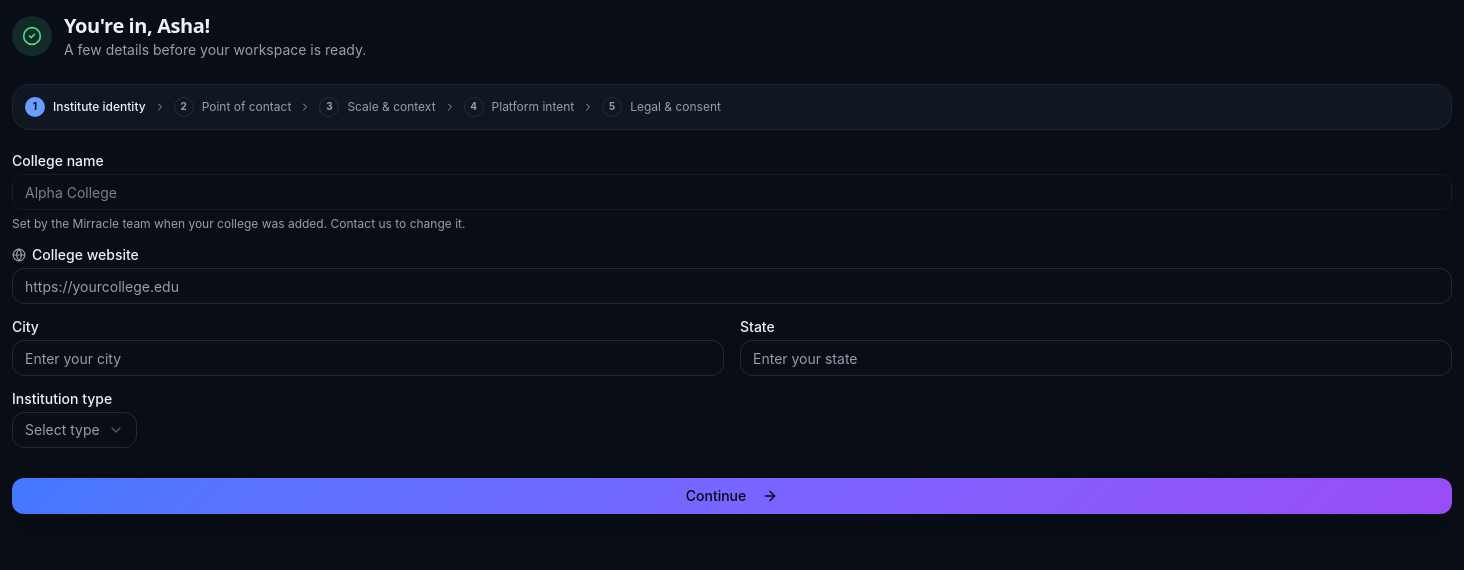
Test: College onboarding page › a first visit starts empty and will not continue without the required details
Expected: the field showing "Alpha College" is shown, [12,174,1452,210]
What coordinates should you click on to do the following:
click the button "Continue"
I would click on:
 (732, 496)
Its box is [12,478,1452,514].
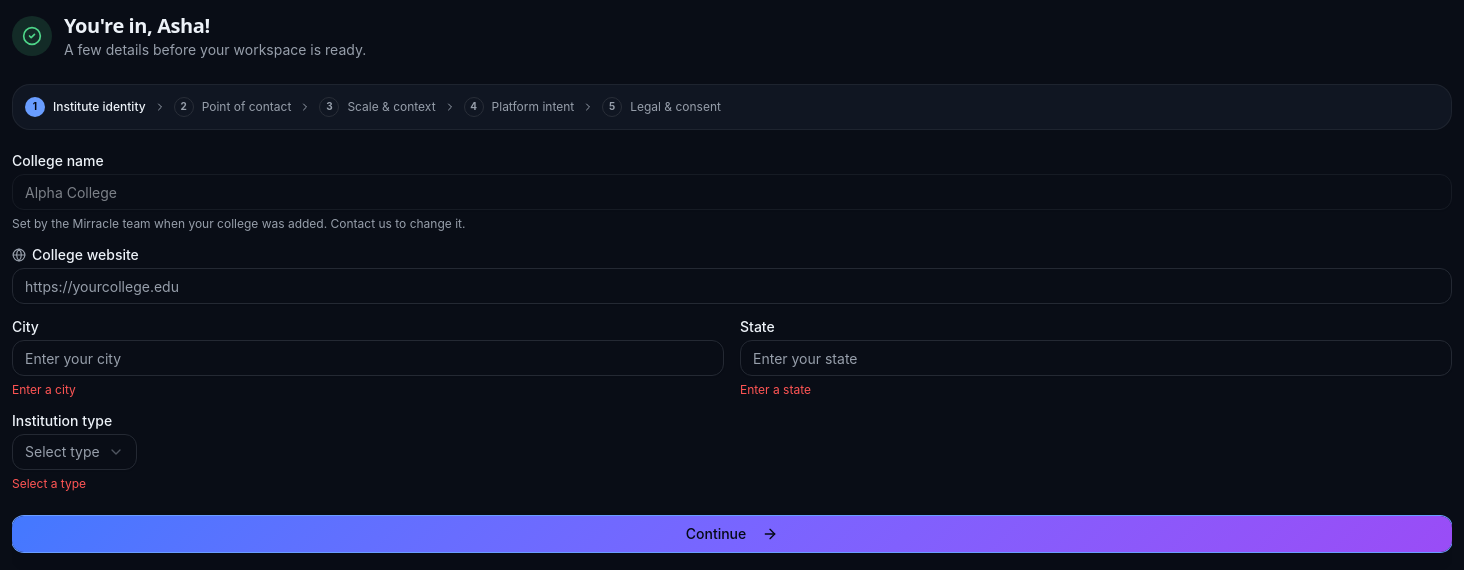
Expected: the text "Enter a city" is shown, [12,382,76,397]
